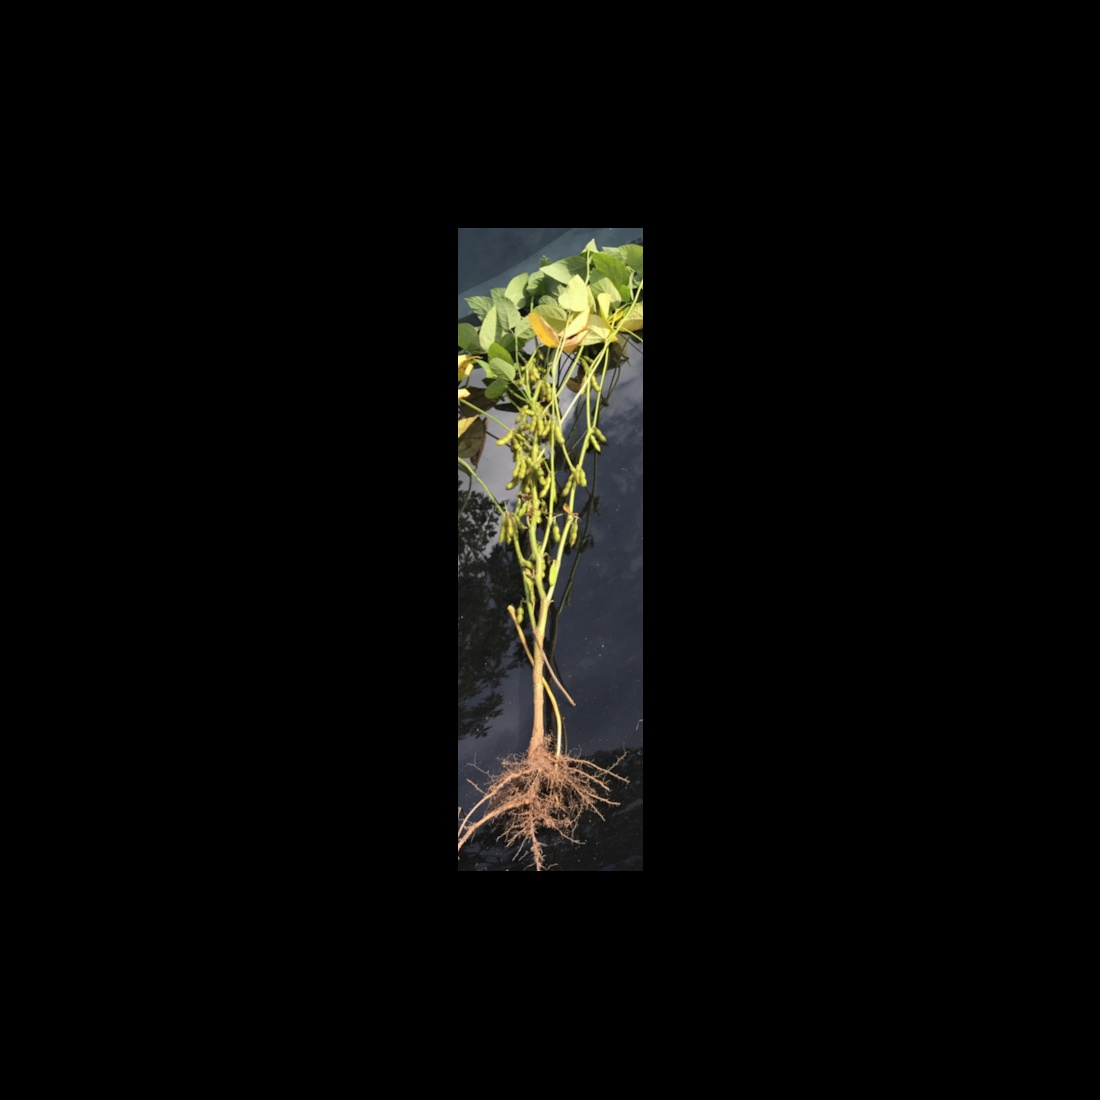pod: (494, 428, 519, 449), (560, 472, 577, 497), (538, 474, 553, 501), (517, 457, 529, 482), (589, 433, 602, 455), (589, 373, 601, 393), (544, 382, 554, 403), (517, 605, 524, 627)
soy: (466, 286, 640, 833)
